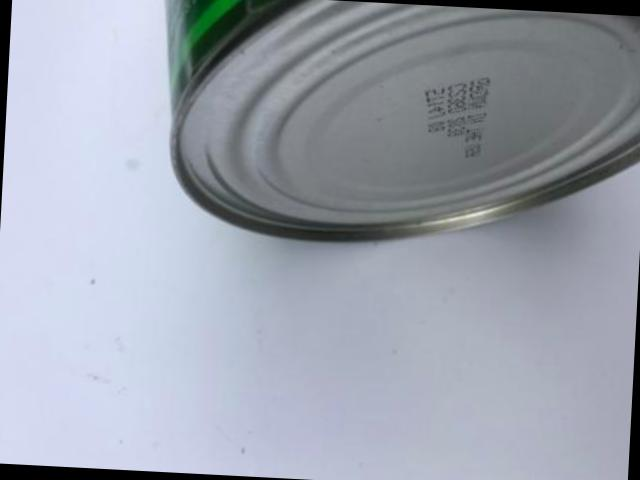metal: (165, 0, 640, 244)
